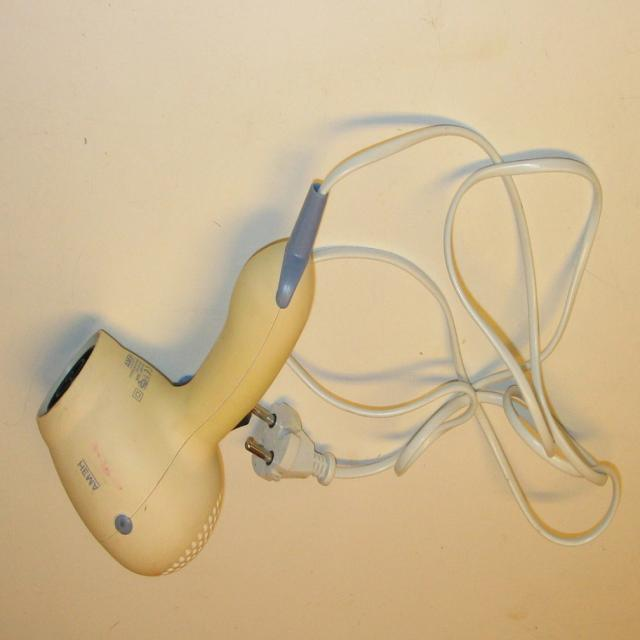dryer: (30, 112, 394, 596)
